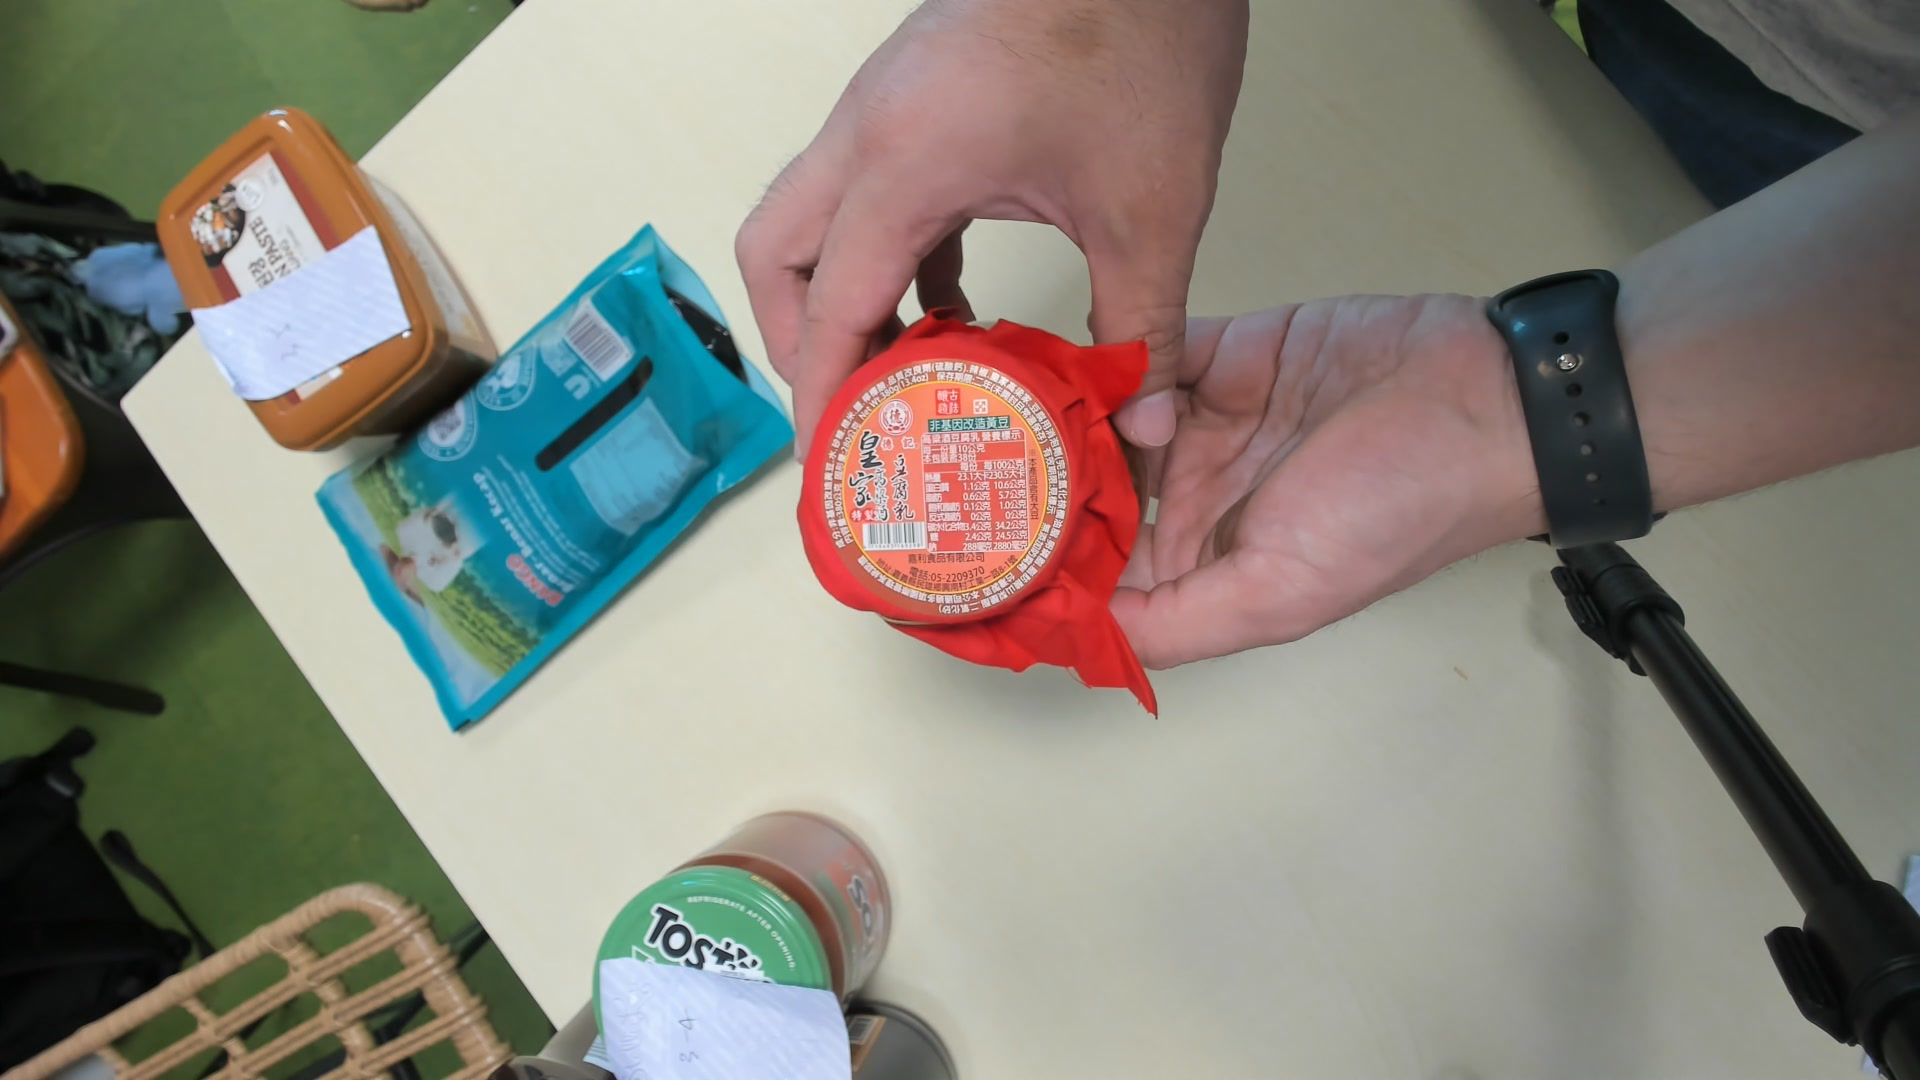OtherSauceDressing_300-399g_NonHalal_NonHealthy: (794, 320, 1183, 705)
